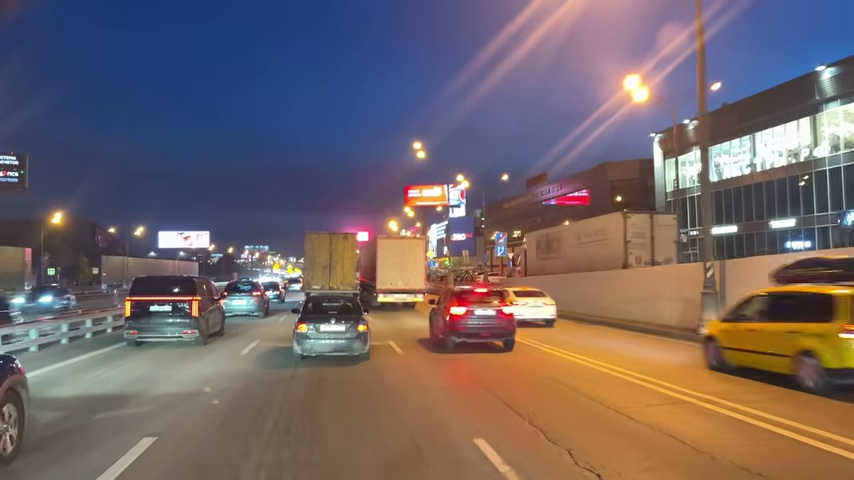acesa: (620, 73, 652, 104), (46, 209, 68, 229), (410, 140, 429, 162), (453, 173, 471, 190), (130, 224, 147, 240), (707, 80, 723, 94)
